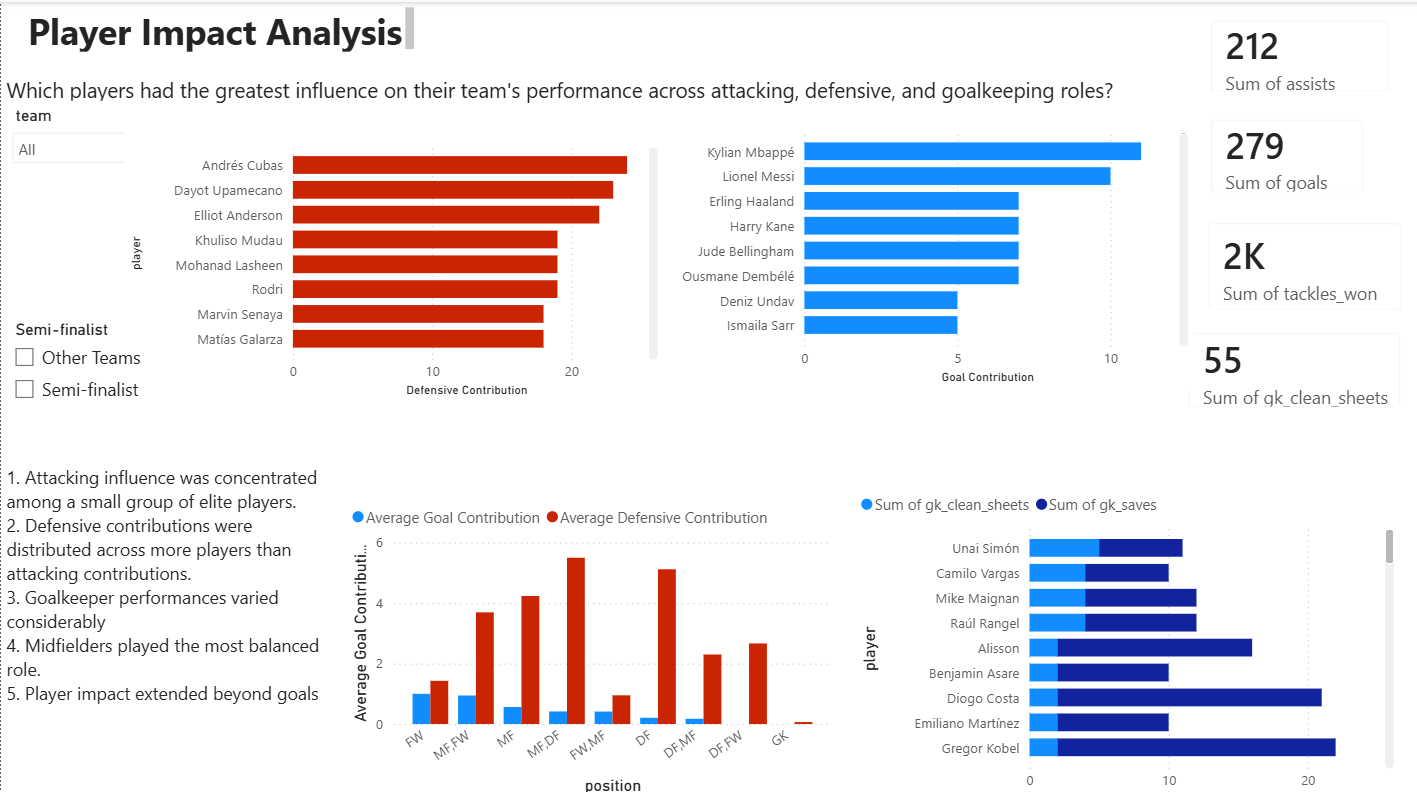

The dashboard page shown, as its layout file describes it:
{"tool":"powerbi","page":{"name":" Player Impact Analysis","canvas":[1280,720],"ordinal":2},"visuals":[{"type":"textbox","box":[10,0,367.1,50],"z":0},{"type":"textbox","box":[0,61.4,1067.1,54.3],"z":1000},{"type":"slicer","fields":{"Values":["FactPlayers.team"]},"box":[0,88.6,150,78.6],"z":2000},{"type":"cardVisual","fields":{"Data":["Sum(FactPlayers.goals)"]},"box":[1074.3,88.6,171.4,100],"z":3000},{"type":"cardVisual","fields":{"Data":["Sum(FactPlayers.assists)"]},"box":[1074.3,0,194.3,98.6],"z":4000},{"type":"cardVisual","fields":{"Data":["Sum(FactPlayers.tackles_won)"]},"box":[1071.4,182.9,208.6,112.9],"z":5000},{"type":"cardVisual","fields":{"Data":["Sum(FactPlayers.gk_clean_sheets)"]},"box":[1054.3,281.4,225.7,101.4],"z":6000},{"type":"barChart","fields":{"Category":["FactPlayers.player"],"Y":["FactPlayers.Goal Contribution"]},"box":[565.7,104.3,510,244.3],"z":7000},{"type":"barChart","fields":{"Y":["FactPlayers.Defensive Contribution"],"Category":["FactPlayers.player"]},"box":[111.4,117.1,485.7,244.3],"z":8000},{"type":"barChart","fields":{"Category":["FactPlayers.player"],"Y":["Sum(FactPlayers.gk_clean_sheets)","Sum(FactPlayers.gk_saves)"]},"box":[770,432.9,491.4,287.1],"z":9000},{"type":"clusteredColumnChart","fields":{"Y":["FactPlayers.Average Goal Contribution","FactPlayers.Average Defensive Contribution"],"Category":["FactPlayers.position"]},"box":[311.4,444.3,442.9,275.7],"z":10000},{"type":"slicer","fields":{"Values":["Dim team.Semi-finalist"]},"box":[0,281.4,150,95.7],"z":11000},{"type":"textbox","box":[0,413,311,276],"z":12000}]}

Visuals, with their boxes in screenshot pixels (x1, y1, x2, y2), scaled from the page's 1280x720 canvas onto the 1417x792 screenshot:
textbox: left=11, top=0, right=417, bottom=55
textbox: left=0, top=68, right=1181, bottom=127
slicer - FactPlayers.team: left=0, top=97, right=166, bottom=184
cardVisual - Sum(FactPlayers.goals): left=1189, top=97, right=1379, bottom=207
cardVisual - Sum(FactPlayers.assists): left=1189, top=0, right=1404, bottom=108
cardVisual - Sum(FactPlayers.tackles_won): left=1186, top=201, right=1416, bottom=325
cardVisual - Sum(FactPlayers.gk_clean_sheets): left=1167, top=310, right=1416, bottom=421
barChart - FactPlayers.player x FactPlayers.Goal Contribution: left=626, top=115, right=1191, bottom=383
barChart - FactPlayers.Defensive Contribution x FactPlayers.player: left=123, top=129, right=661, bottom=398
barChart - FactPlayers.player x Sum(FactPlayers.gk_clean_sheets): left=852, top=476, right=1396, bottom=791
clusteredColumnChart - FactPlayers.Average Goal Contribution x FactPlayers.Average Defensive Contribution: left=345, top=489, right=835, bottom=791
slicer - Dim team.Semi-finalist: left=0, top=310, right=166, bottom=415
textbox: left=0, top=454, right=344, bottom=758
